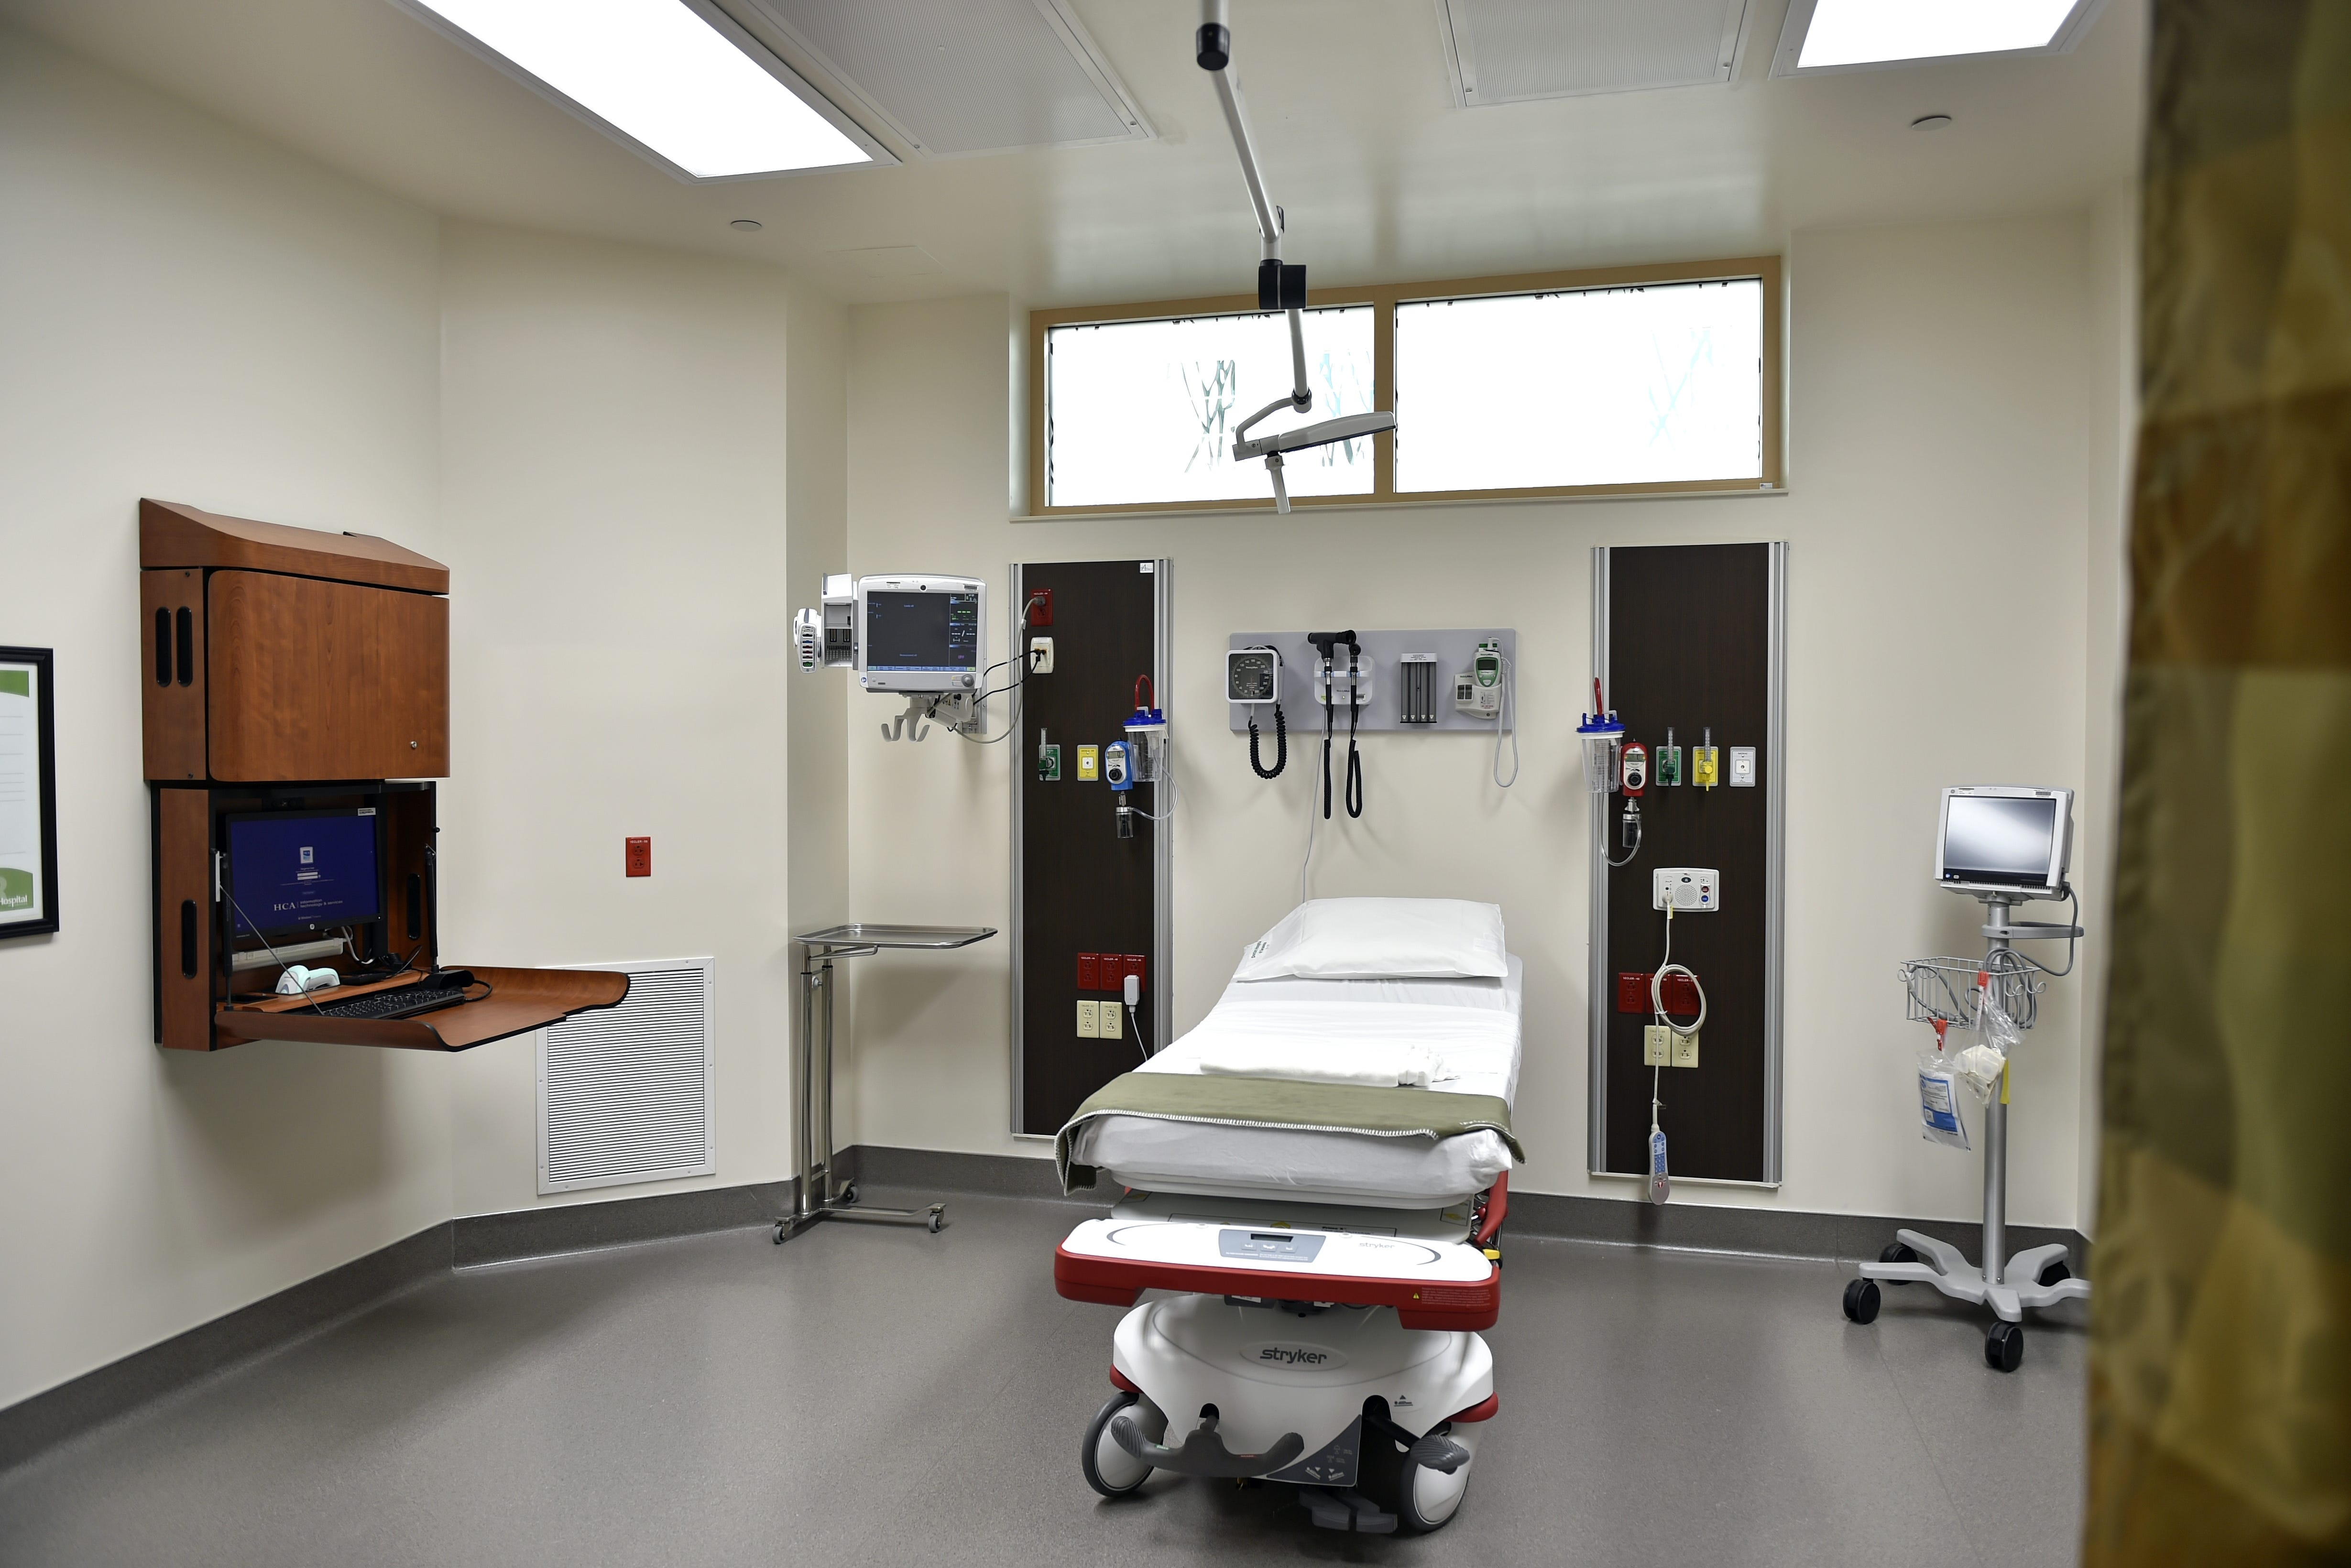bedside_monitor: (1877, 775, 2083, 1036), (800, 570, 984, 745)
computer: (210, 800, 403, 940)
curtain: (2081, 5, 2342, 1568)
hospital_bed: (1052, 894, 1526, 1542)
keyboard: (299, 987, 478, 1032)
utility_cart: (772, 919, 994, 1248)
